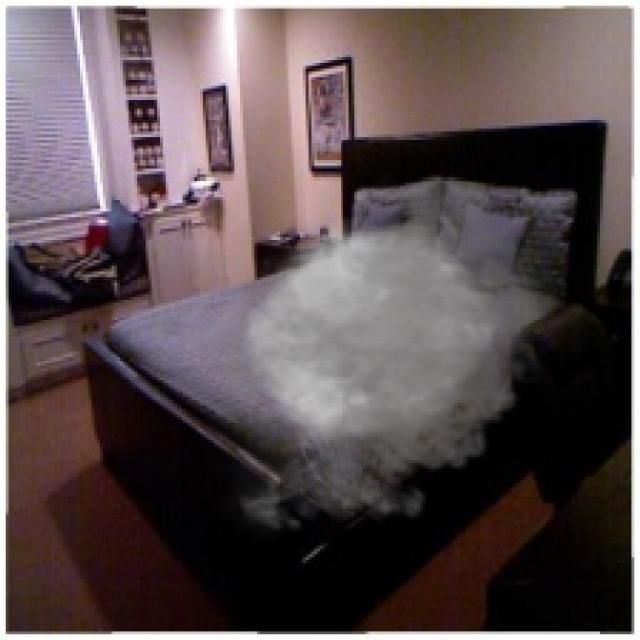smoke: (174, 166, 569, 543)
